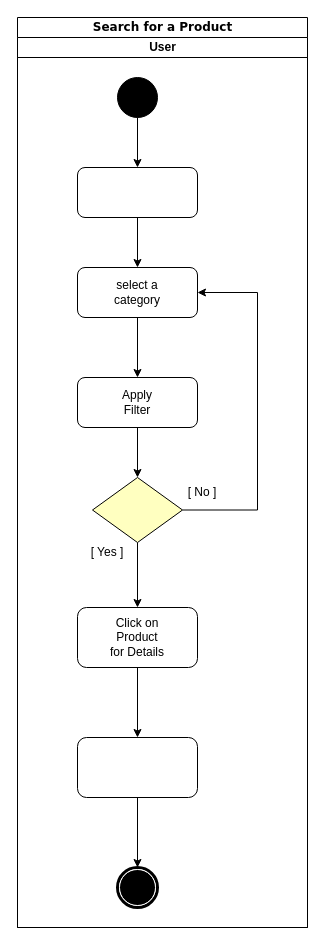
Some shapes in this 325 by 945 pixel diagram are drawn without their labels. Each missing label, with the centre of its shape:
"Find Product" goes at point 137,509.
"Go to Produt Form" goes at point 137,192.
"Start Chat with the Owner" goes at point 137,767.
